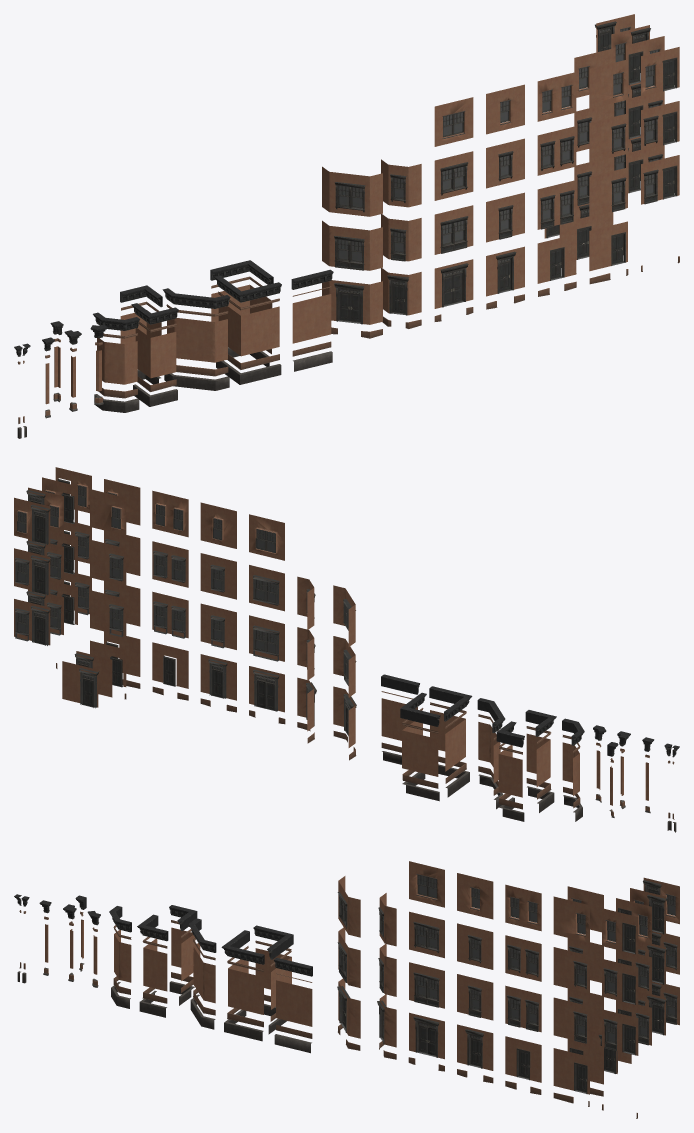
Rendered from apartment-mid.glb.
3 renders of one model, top to bottom at view 1: azimuth 30°, elevation 25°; view 2: azimuth 150°, elevation 25°; view 3: azimuth 330°, elevation 25°, orthographic. The views are drawn at different scales.
Visible parts, largest first — view 1: wall_door_centered_large_01, door_angled_small_01, door_window_small_09, crown_standard_angled_large_01; view 2: wall_door_centered_large_01, door_angled_small_01, door_window_small_09, crown_standard_angled_large_01; view 3: wall_door_centered_large_01, door_angled_small_01, door_window_small_09, crown_standard_angled_large_01.
Boxes of the visible parts, box(x1,y1,x2,y2) form: wall_door_centered_large_01: box(45, 14, 679, 404); door_angled_small_01: box(334, 21, 677, 324); door_window_small_09: box(17, 26, 679, 438); crown_standard_angled_large_01: box(14, 260, 333, 356); wall_door_centered_large_01: box(14, 467, 648, 805); door_angled_small_01: box(15, 478, 356, 735); door_window_small_09: box(45, 489, 676, 832); crown_standard_angled_large_01: box(381, 674, 679, 757); wall_door_centered_large_01: box(45, 861, 679, 1094); door_angled_small_01: box(337, 875, 677, 1093); door_window_small_09: box(17, 874, 675, 1118); crown_standard_angled_large_01: box(14, 894, 312, 976).
Bounding box in the file's own units: 51.53 × 17 × 6.66.
5 materials, 5 textured.
